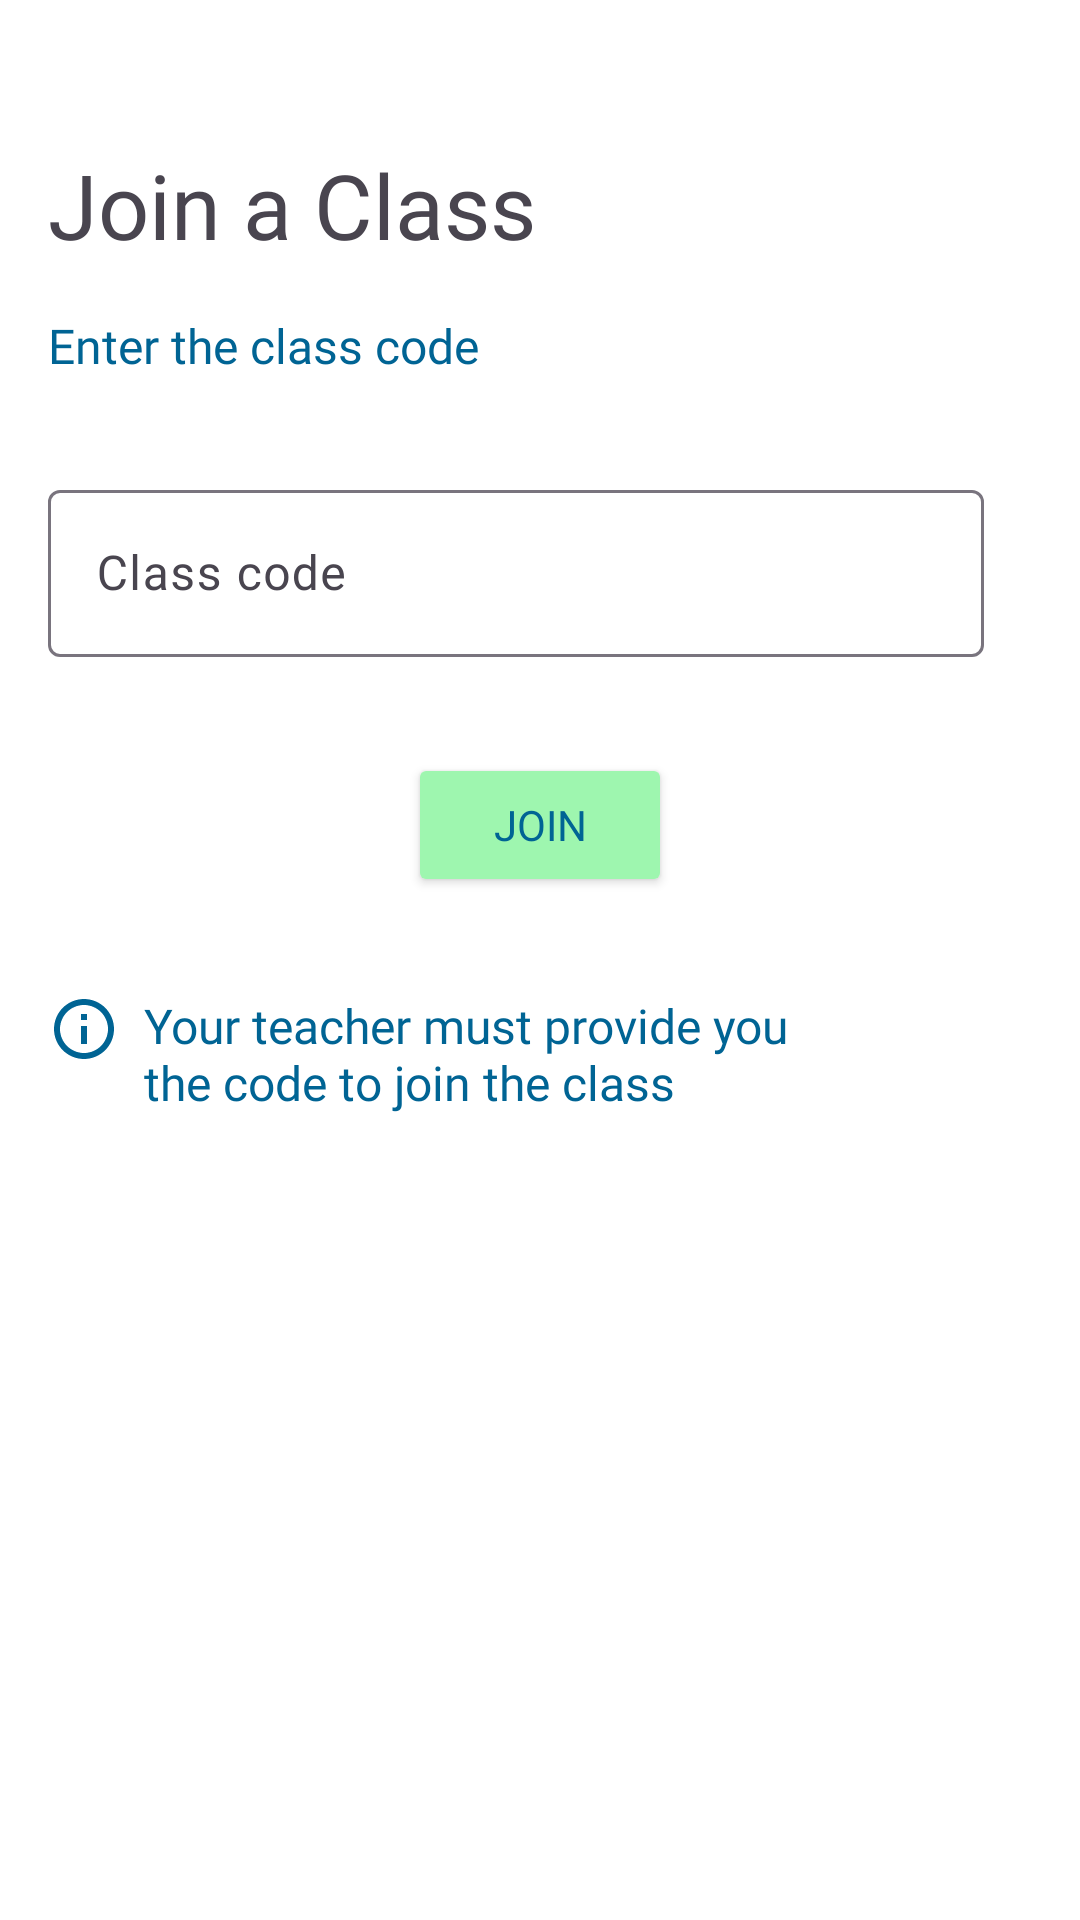

Named icons in this screenshot (1080px x 1920px) and their bounding boxes, bbox=[x1, y1, x2, y2]:
info: bbox=[54, 999, 114, 1059]
